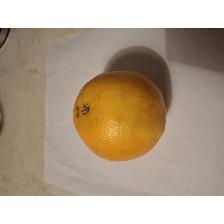Orange: (69, 68, 171, 162)
